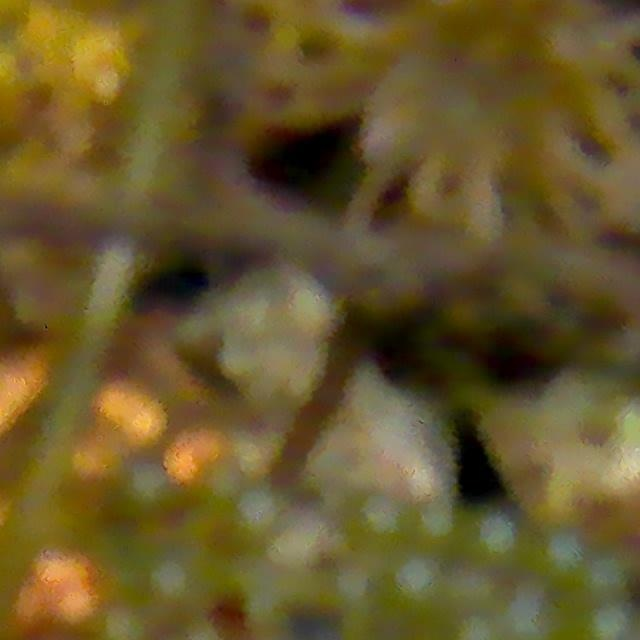SeaGrape: (385, 549, 452, 621), (490, 584, 572, 640), (465, 508, 528, 573), (538, 529, 588, 584), (358, 489, 407, 539), (575, 601, 637, 640)
